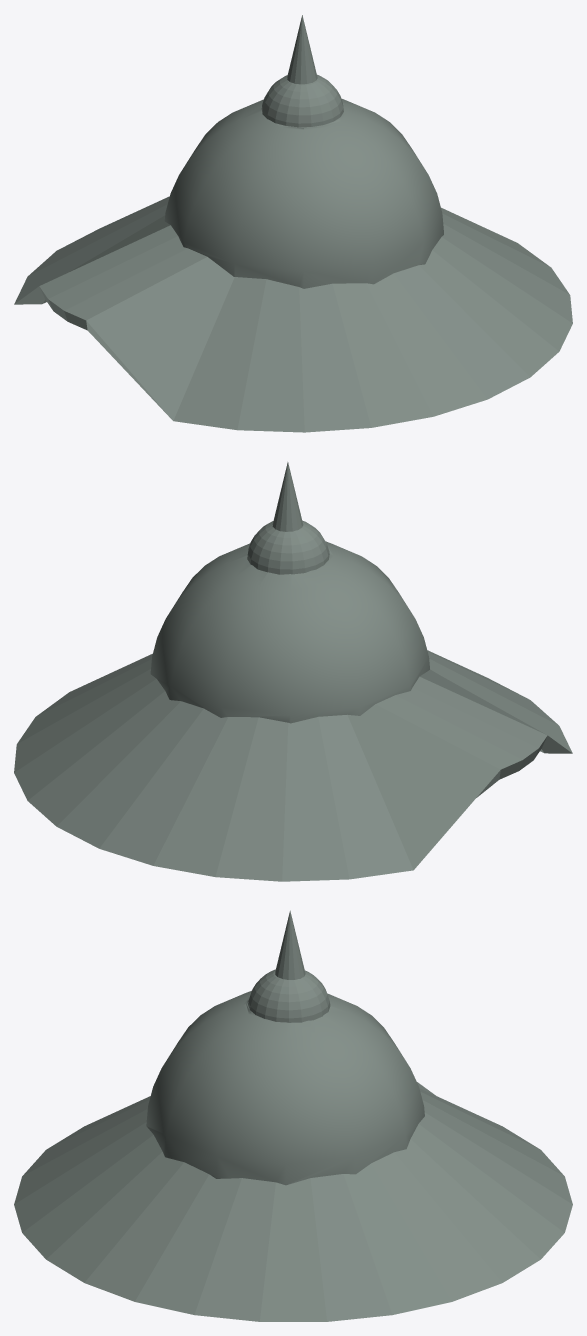
The model's file is helmet_3.fbx.
The picture shows the model from 3 angles, top to bottom: view 1: azimuth 30°, elevation 25°; view 2: azimuth 150°, elevation 25°; view 3: azimuth 270°, elevation 25°; orthographic projection.
Visible parts, largest first — view 1: Capsule; view 2: Capsule; view 3: Capsule.
Boxes of the visible parts, x1,y1,x2,y2 form: Capsule: [14, 15, 572, 432]; Capsule: [14, 462, 572, 881]; Capsule: [14, 910, 572, 1321].
Bounding box in the file's own units: 246 × 147 × 250.
